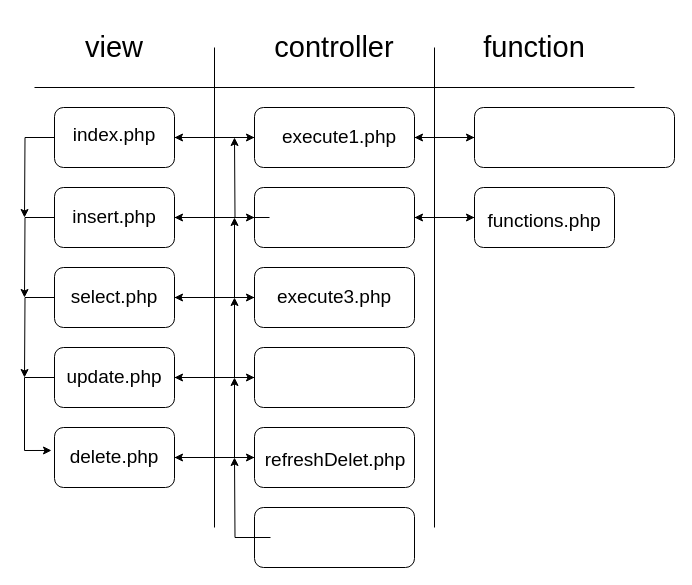
Some shapes in this 692 by 585 pixel diagram are drawn without their labels. Here are the shapes that lost their labels. From the top down, the box of each, then its label:
(474, 106, 674, 168): DBManagements.php
(254, 186, 414, 248): execute2.php
(254, 346, 414, 408): execute4.php
(254, 506, 414, 568): refreshUpdate.php
